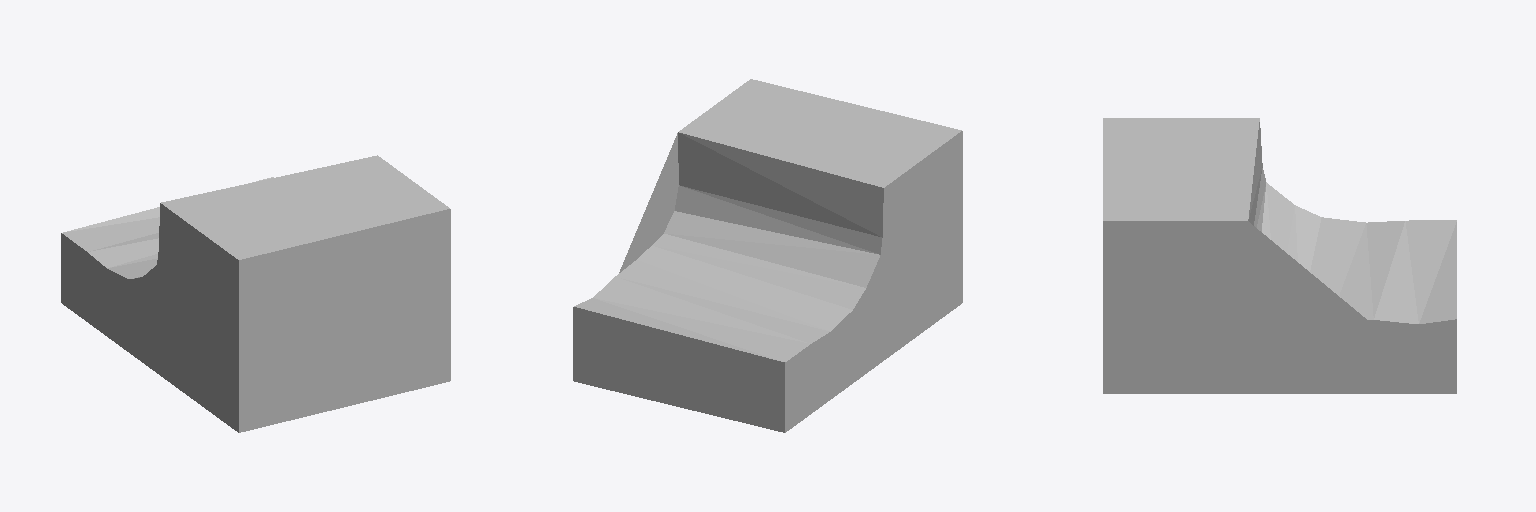
The model's file is block_break1.obj.
The picture shows the model from 3 angles: view 1: azimuth 30°, elevation 25°; view 2: azimuth 150°, elevation 25°; view 3: azimuth 270°, elevation 25°; orthographic projection.
Visible parts, largest first — view 1: block_break1; view 2: block_break1; view 3: block_break1.
Part boxes in pixels (x1,y1,x2,y2): block_break1: (61,155,450,432); block_break1: (573,79,962,432); block_break1: (1103,118,1456,393).
Size of the model in its own units: 0.3 by 0.234 by 0.435.